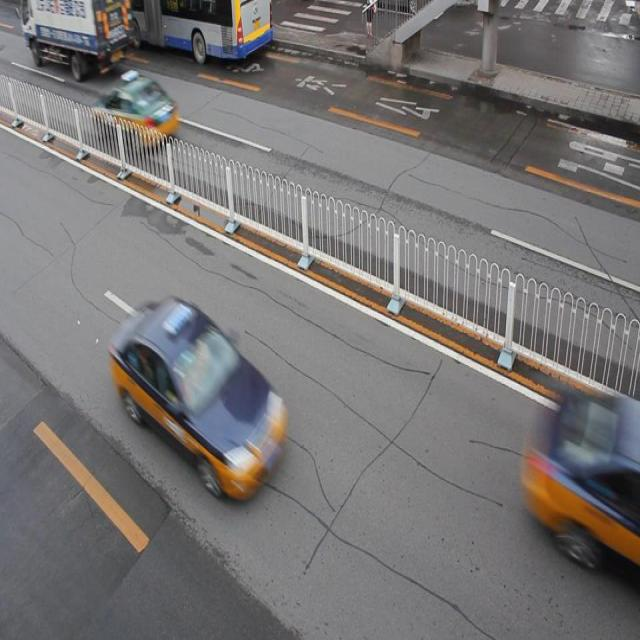bus: (19, 1, 132, 74)
car: (112, 296, 289, 492), (530, 385, 640, 586), (92, 74, 180, 152)
van: (70, 1, 272, 59)
